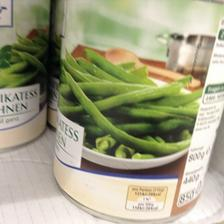Bohnen: (54, 0, 222, 222)
